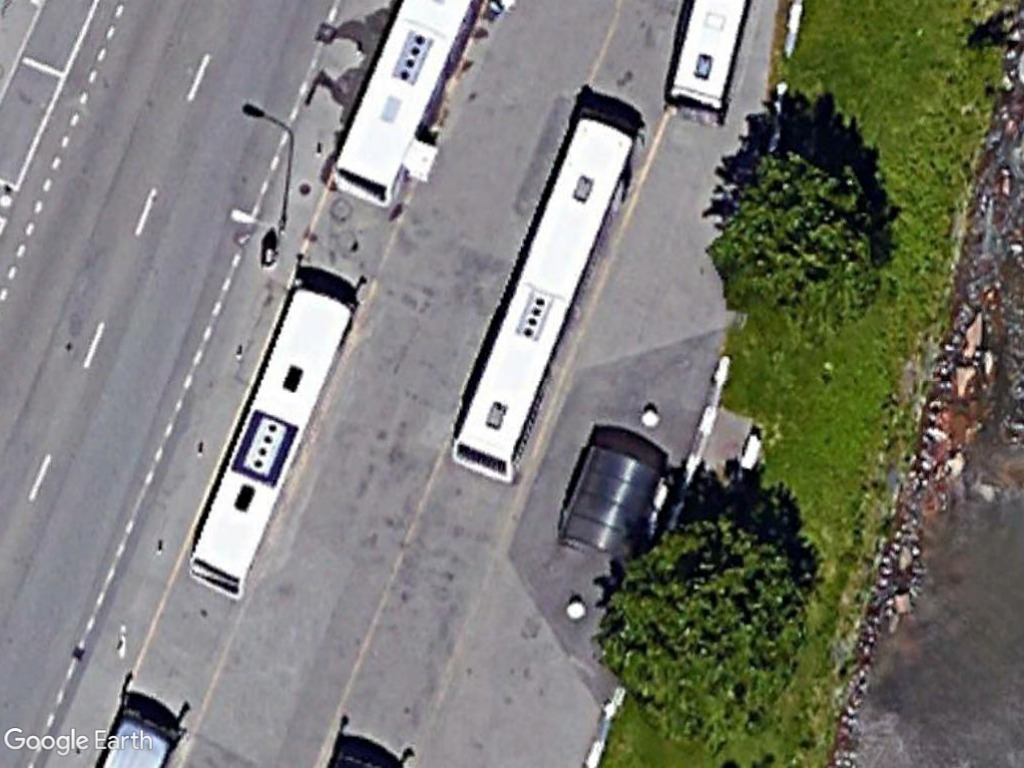bus: (439, 108, 643, 490), (181, 280, 360, 599)
